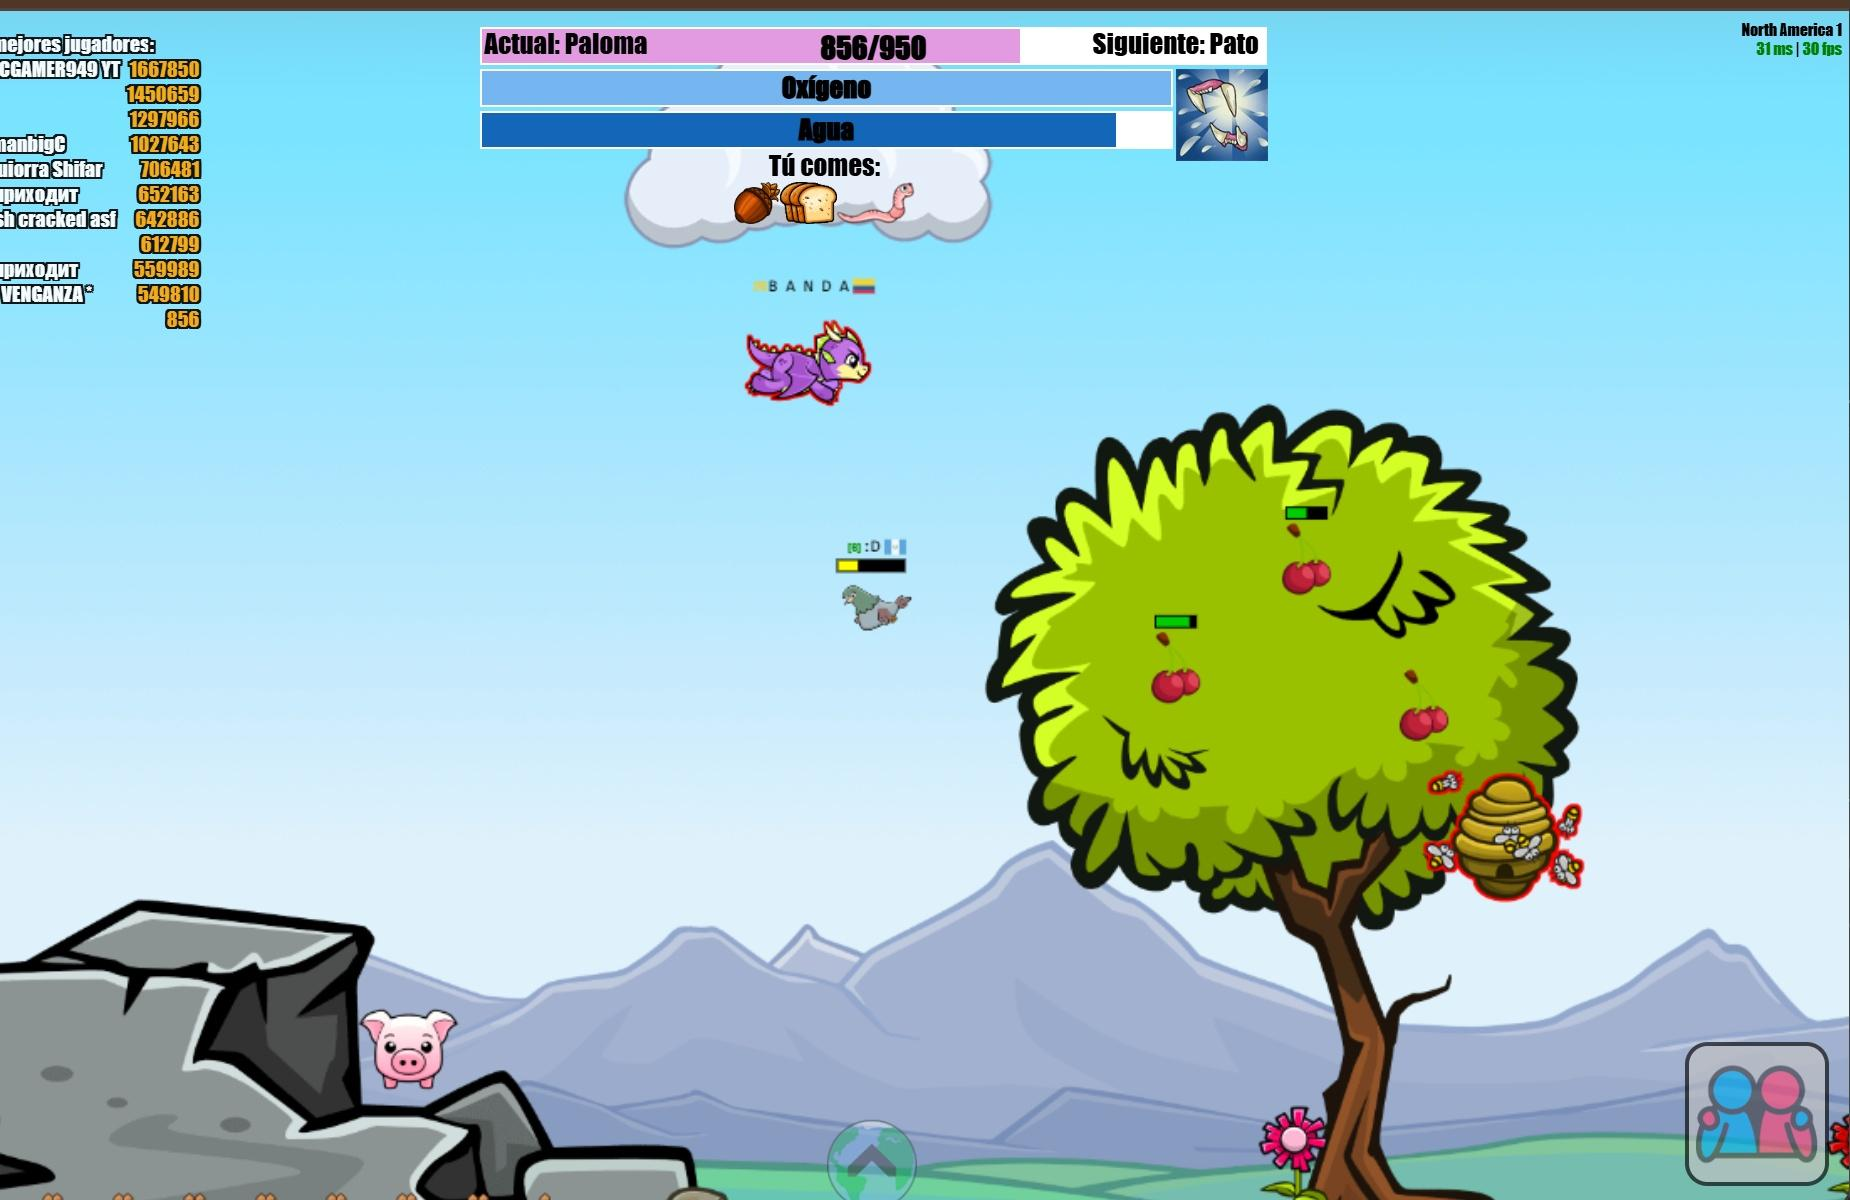cerdo: (358, 1000, 455, 1090)
dragon: (741, 320, 869, 408)
enjambre: (1424, 753, 1587, 907)
flor: (1260, 1101, 1329, 1173)
guinda: (1396, 664, 1449, 742), (1281, 528, 1334, 597), (1154, 633, 1198, 705)
paloma: (838, 581, 910, 634)
vida: (1283, 501, 1333, 524), (1152, 607, 1200, 627)
